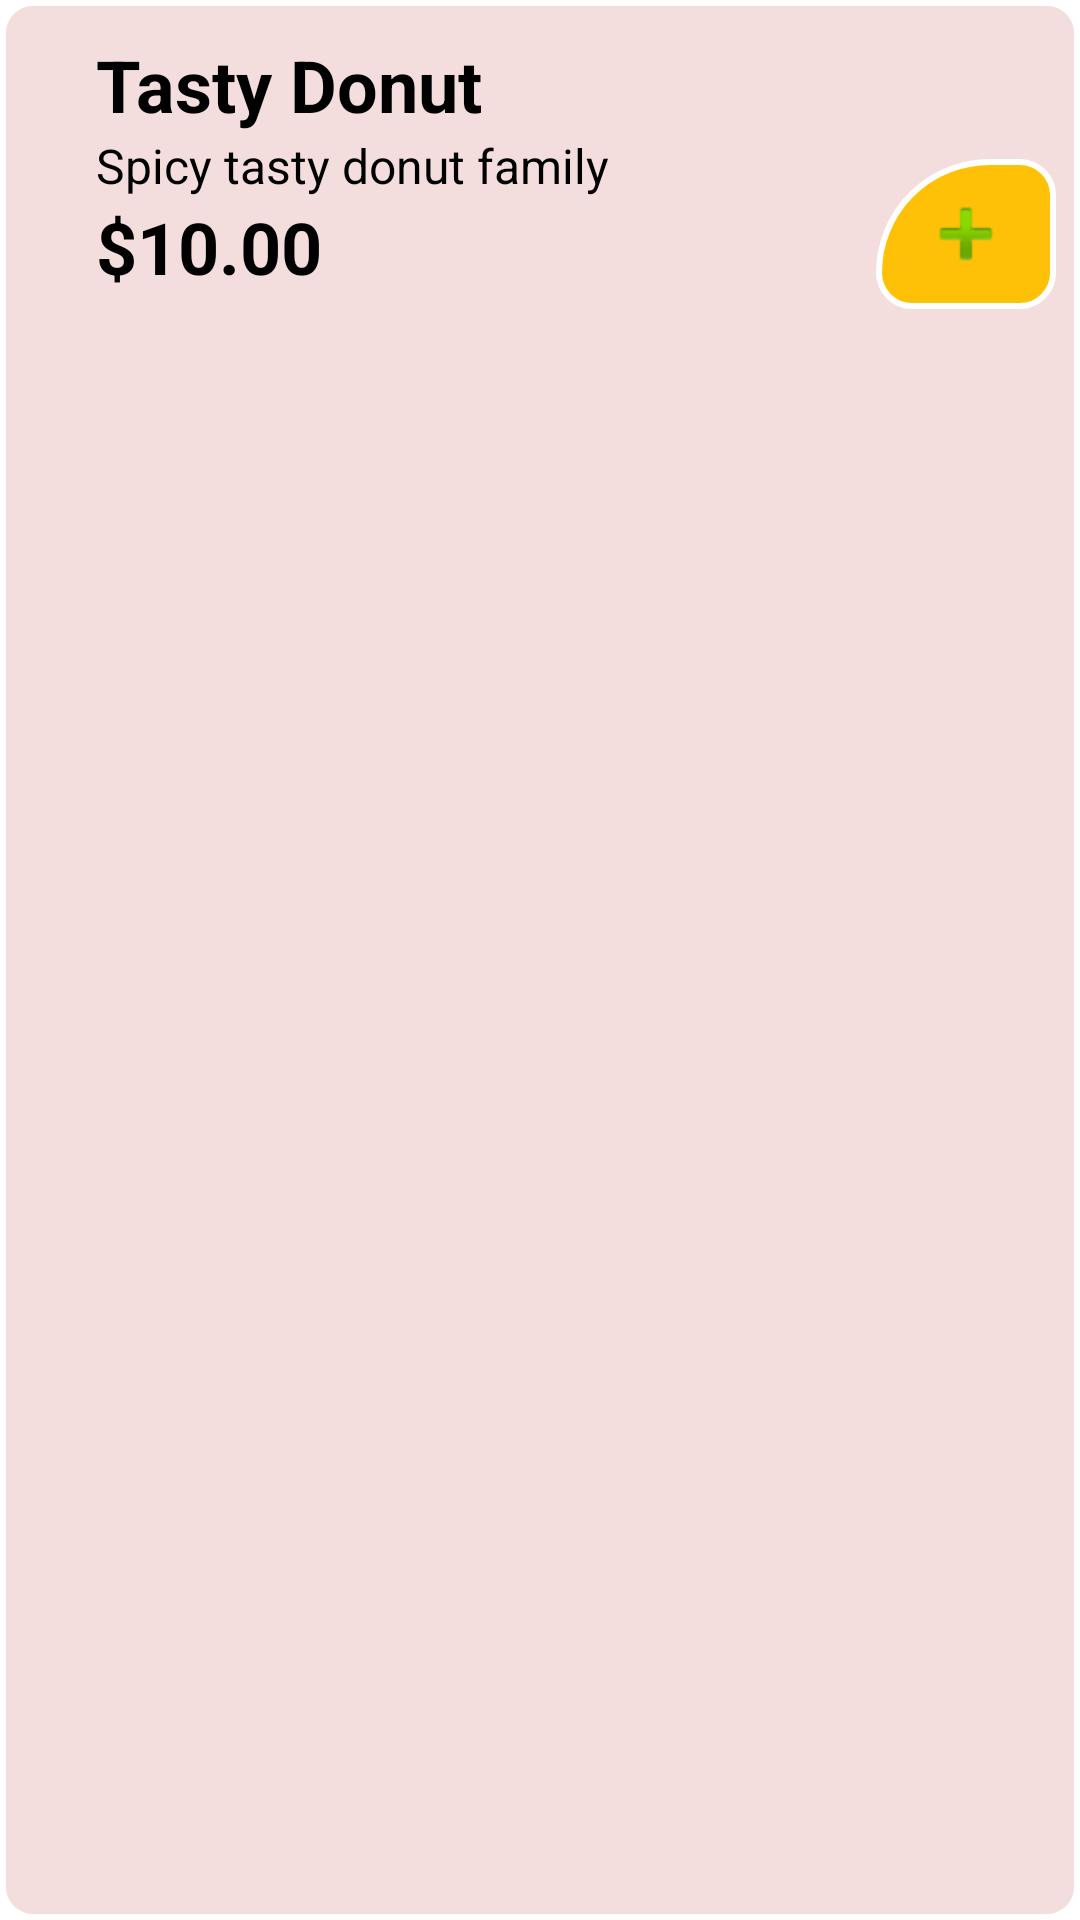

Named icons in this screenshot (1080 x 1920) and their centers, point (x, y):
add: point (966, 234)
